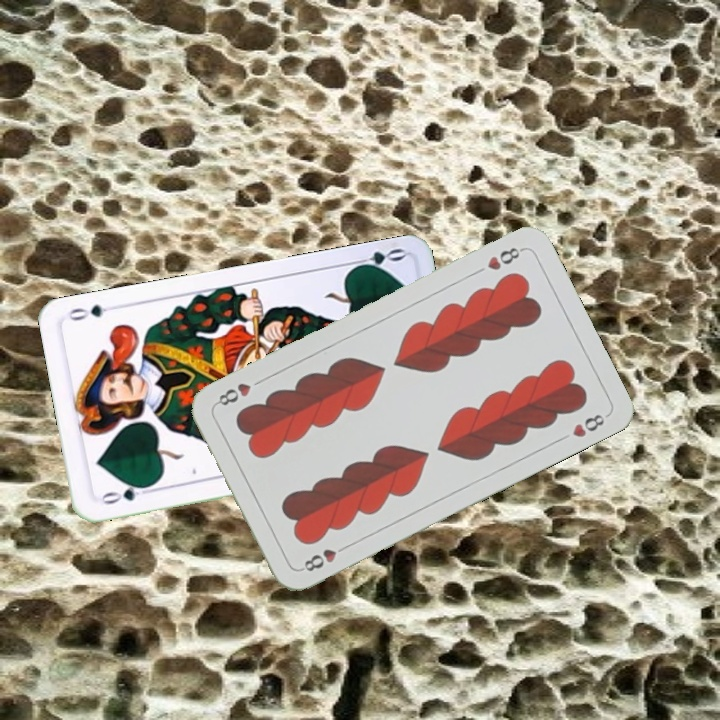GO: (347, 244, 407, 274), (95, 480, 153, 507)
H8: (296, 540, 351, 574), (483, 243, 526, 273)
